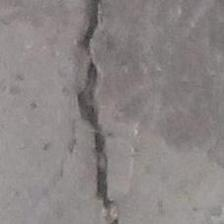Crack: (59, 0, 170, 224)
